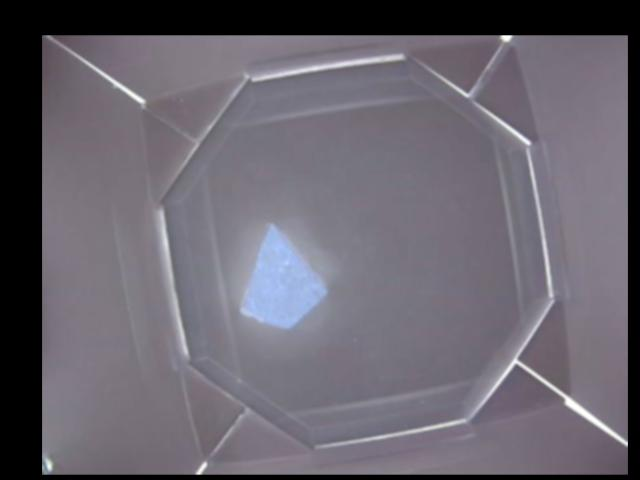China: (237, 225, 324, 328)
